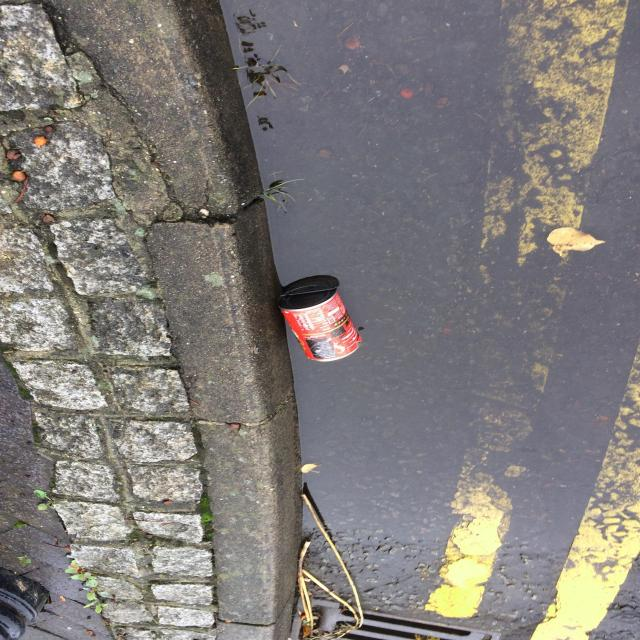less trash: (278, 275, 360, 361)
